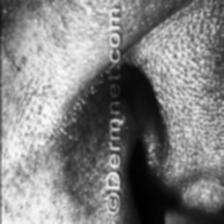Potentially Malignant Skin Tumors: (45, 62, 102, 224), (122, 50, 166, 174)
